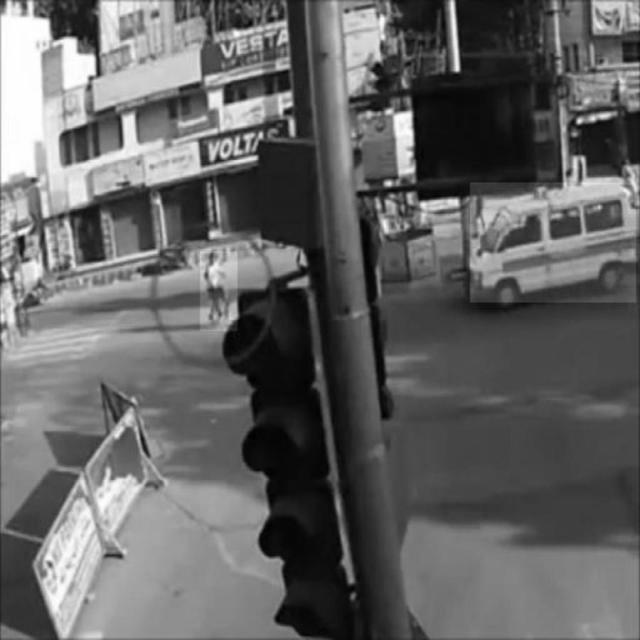vehicle: (470, 183, 636, 303), (201, 252, 238, 332)
